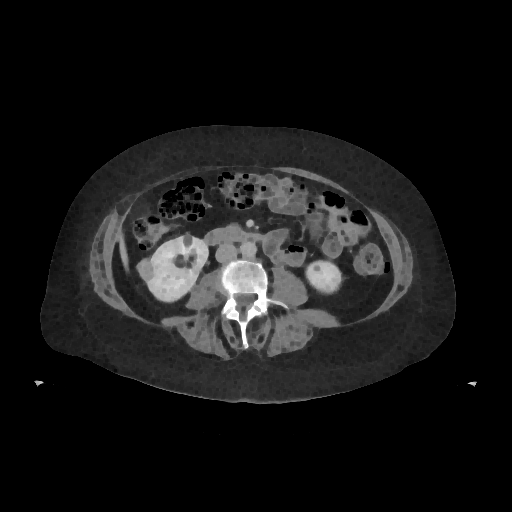Lesion: (135, 256, 156, 285)
